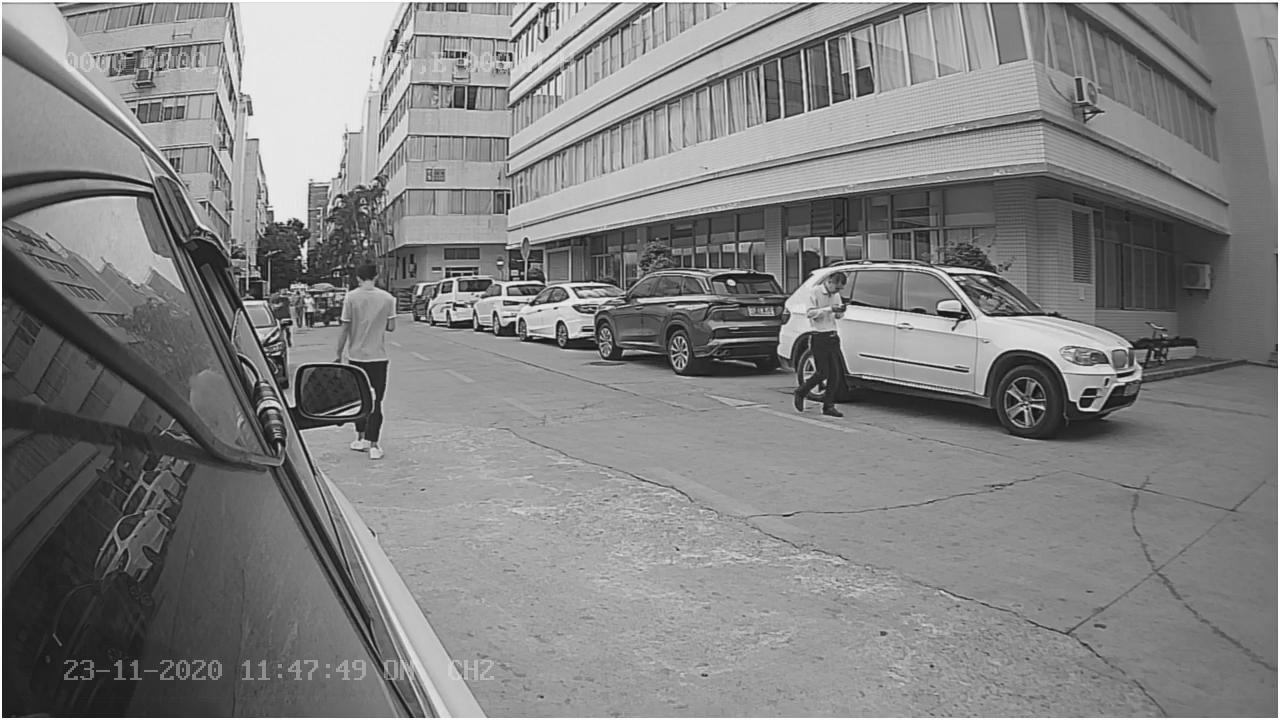person: (788, 263, 849, 420), (333, 263, 410, 363)
